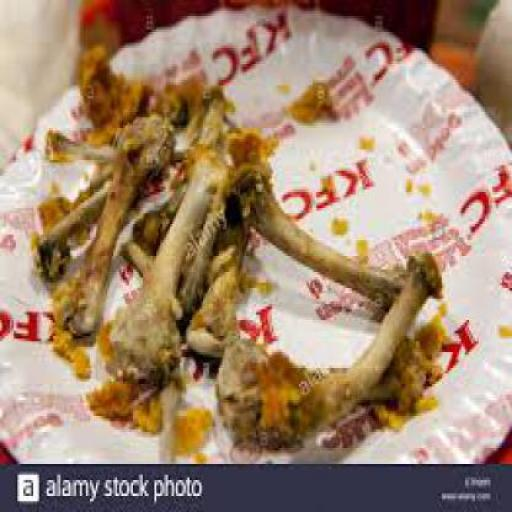biodegradable: (216, 245, 440, 443), (226, 126, 408, 304), (98, 144, 231, 370), (58, 114, 172, 334), (37, 144, 183, 270), (182, 189, 248, 357), (173, 176, 229, 329), (74, 46, 148, 139), (119, 234, 184, 328), (80, 366, 159, 432), (364, 342, 424, 406), (43, 304, 90, 379), (35, 189, 82, 245), (39, 130, 115, 162), (190, 86, 235, 136), (160, 66, 206, 114), (170, 406, 212, 456), (283, 80, 332, 118), (156, 176, 182, 238), (131, 207, 168, 248), (416, 302, 446, 352), (364, 394, 406, 426), (396, 386, 438, 408), (236, 272, 274, 294), (94, 319, 113, 360), (326, 214, 352, 232), (355, 234, 367, 253)
